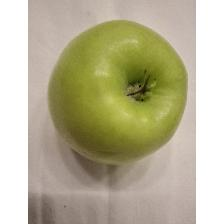Apfel: (44, 18, 190, 168)
